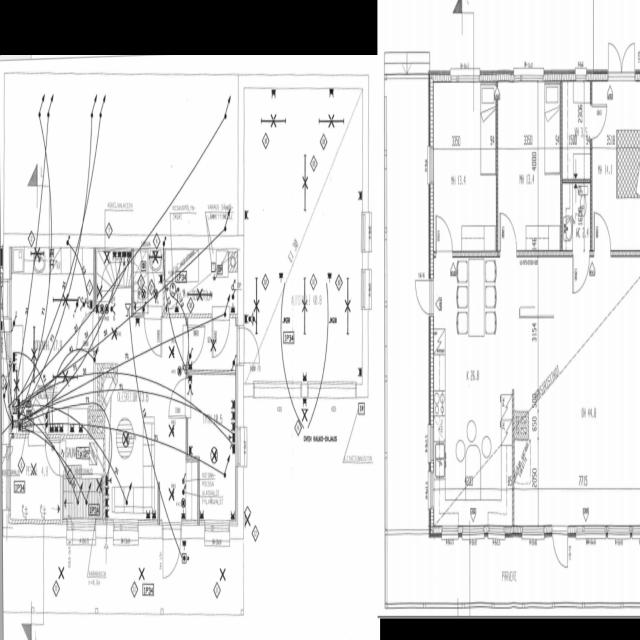door: (163, 524, 180, 580), (236, 327, 260, 365), (75, 310, 96, 350), (28, 394, 46, 439), (144, 313, 162, 357), (168, 378, 188, 417), (212, 313, 230, 356), (186, 325, 205, 364), (552, 526, 568, 572), (436, 214, 452, 257), (573, 251, 589, 294), (414, 280, 434, 314), (501, 214, 517, 256), (594, 214, 610, 256), (45, 441, 62, 476), (608, 39, 622, 81), (590, 106, 607, 140), (622, 39, 635, 81), (0, 280, 10, 317)
